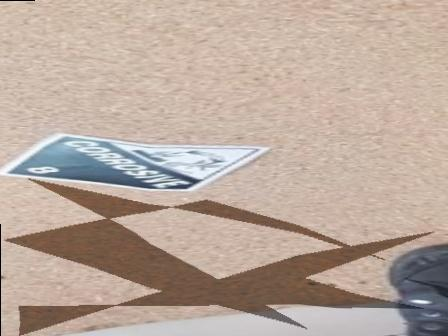corrosive: (1, 132, 275, 189)
